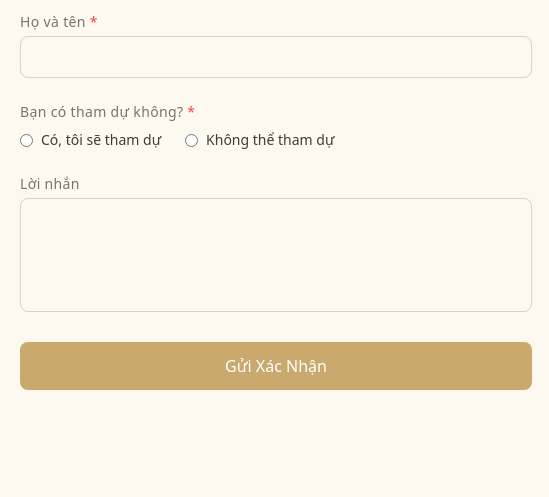
Test: RSVPForm › hides number of attendees when attending is no
The image size is (549, 497).
Click the radio button labelled "Có, tôi sẽ tham dự": point(26, 140) top-left (20, 134), bottom-right (33, 146)
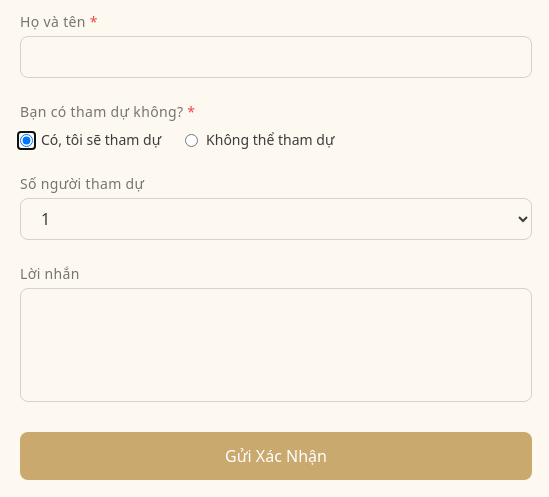
Check: the dropdown labelled "Số người tham dự" is shown, box top-left (20, 198), bottom-right (532, 240)
Click the radio button labelled "Không thể tham dự": point(192, 140) top-left (185, 134), bottom-right (198, 146)
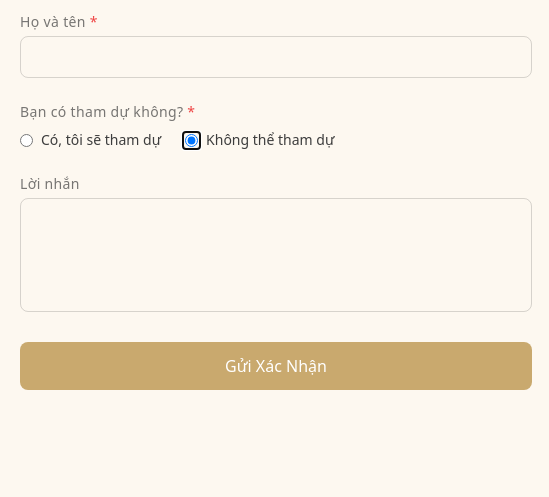
Check: the label labelled "Số người tham dự" is gone
